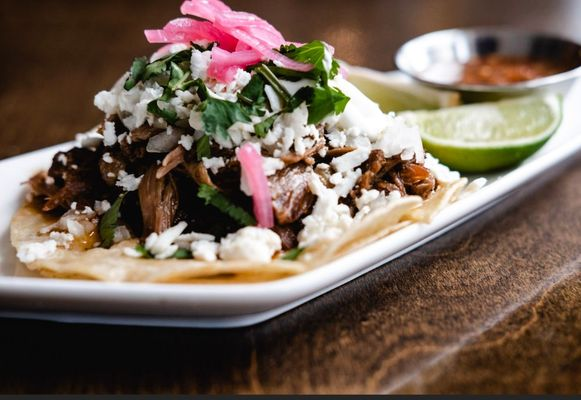sushi: (393, 27, 580, 172)
